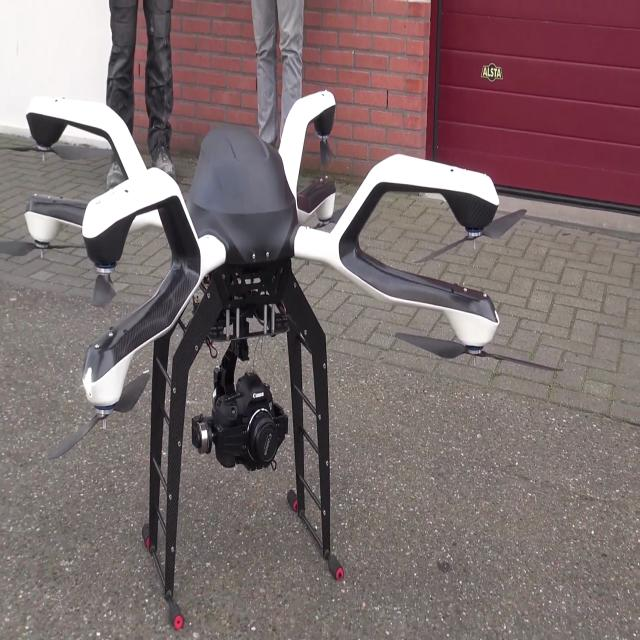drone: (2, 31, 562, 632)
